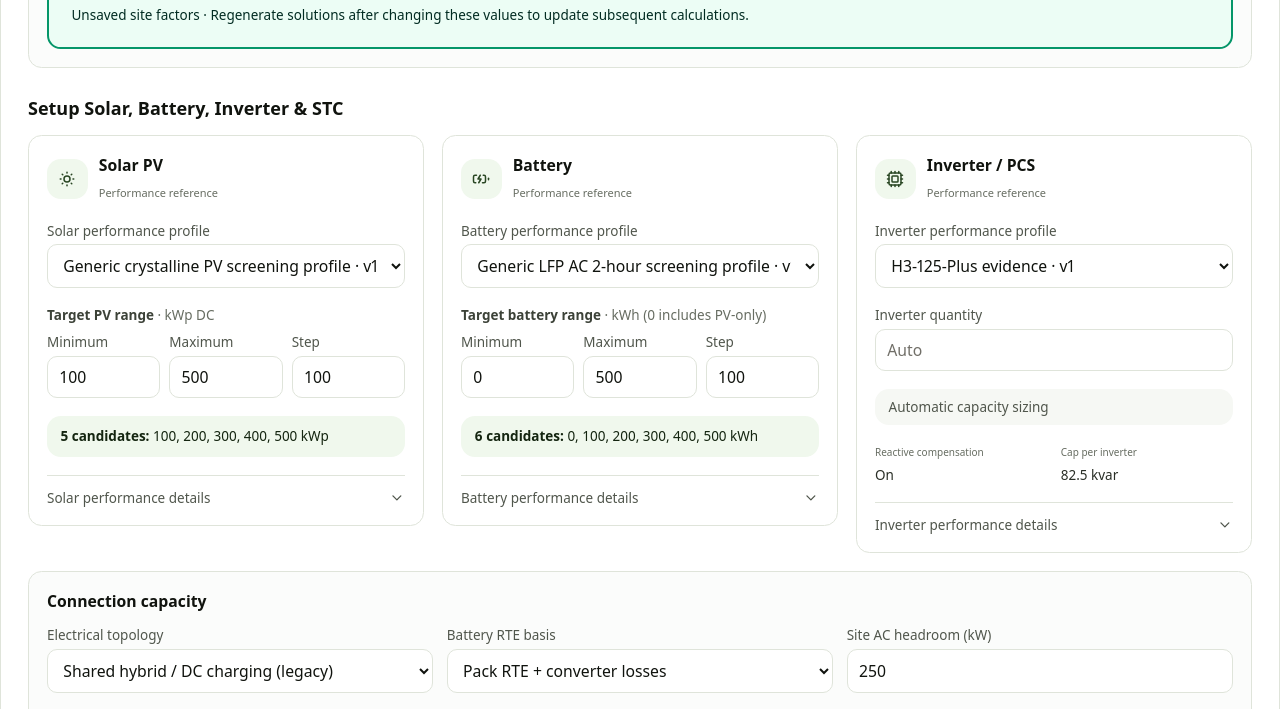
CiScenarioBuilder › rejects invalid inverter quantity 0
(page scrolled)
Type "0" into the number field labelled "Inverter quantity".
click(1054, 350); type("0")  # box [875, 328, 1233, 371]
(page scrolled)
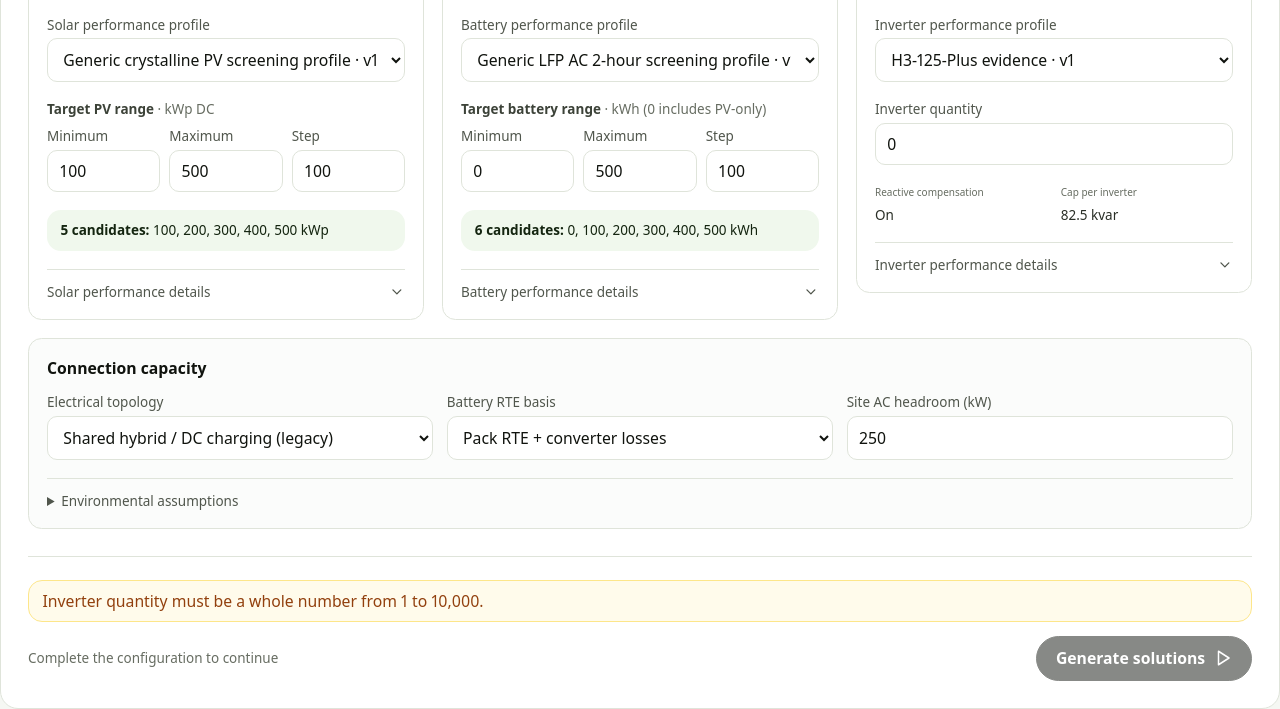
Expected: the text "Inverter quantity must be a whole number from 1 to 10,000." is shown, [28, 580, 1252, 622]
Expected: the button with aria-label "Save configuration & generate solutions" is disabled, [1036, 636, 1252, 680]
